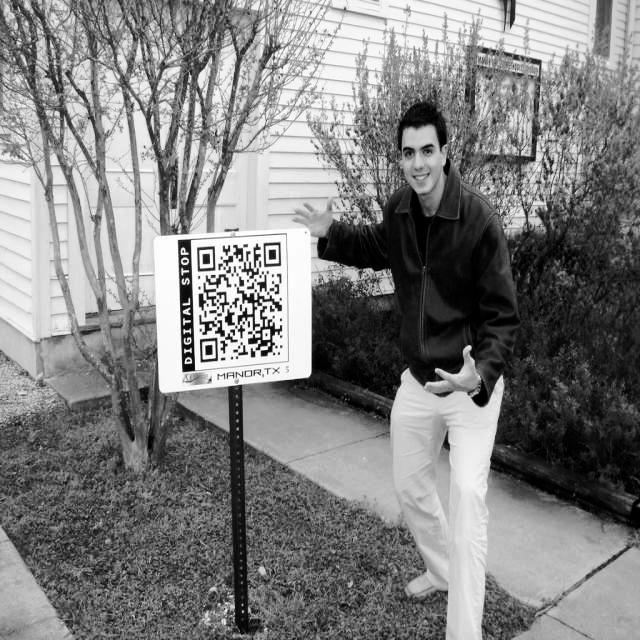qr_code: (197, 242, 282, 363)
